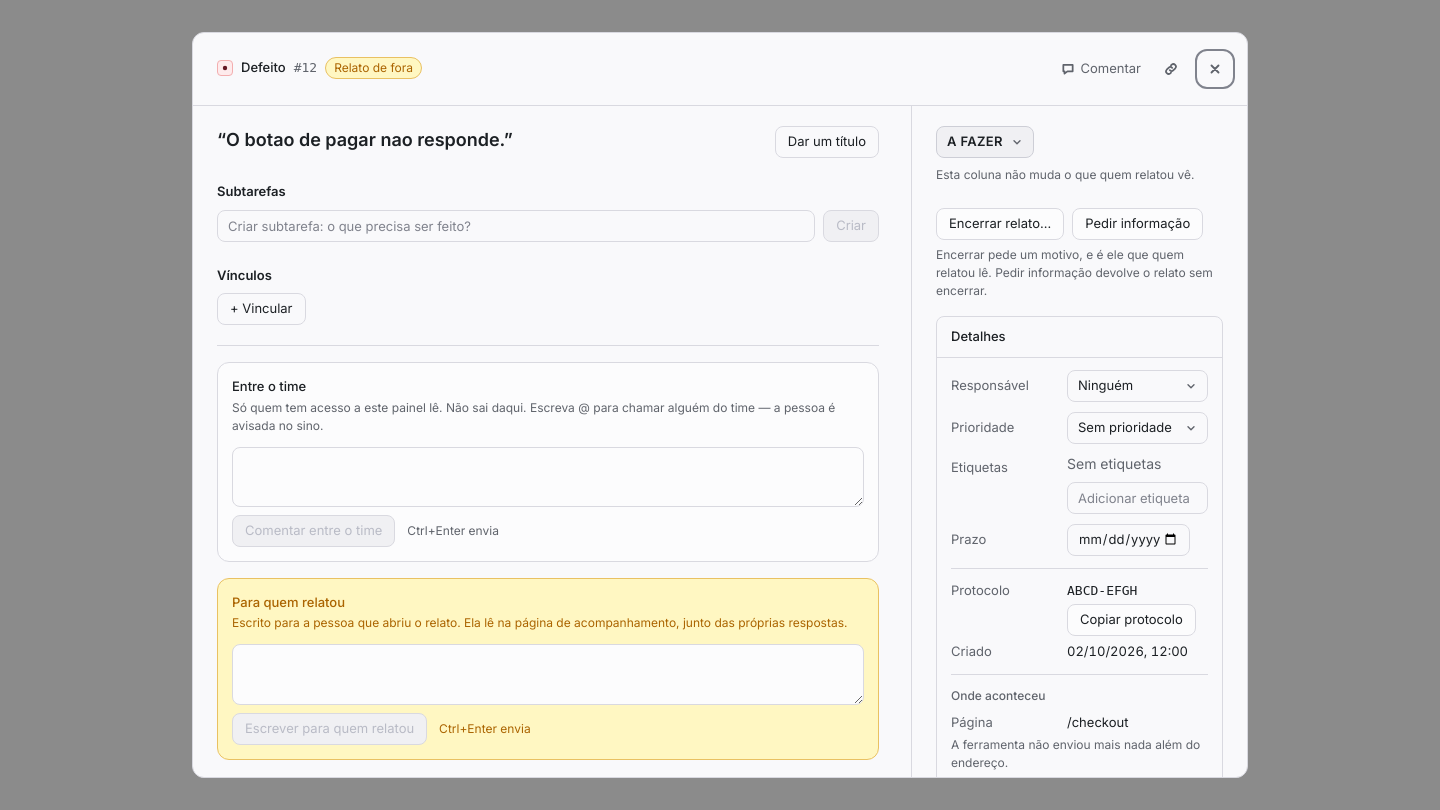
Test: as saidas do relato aberto › pedir informacao na primeira coluna: a pergunta aparece na hora, na caixa de quem relatou e em "Pergunta"
The image size is (1440, 810).
Expected: the button "Encerrar relato…" is shown, [936,208,1064,240]
Expected: the text "Encerrar pede um motivo, e é ele que quem relatou lê. Pedir informação devolve o relato sem encerrar." is shown, [936,247,1213,298]
Click the button "Pedir informação".
click(1138, 224)  # box [1072,208,1203,240]
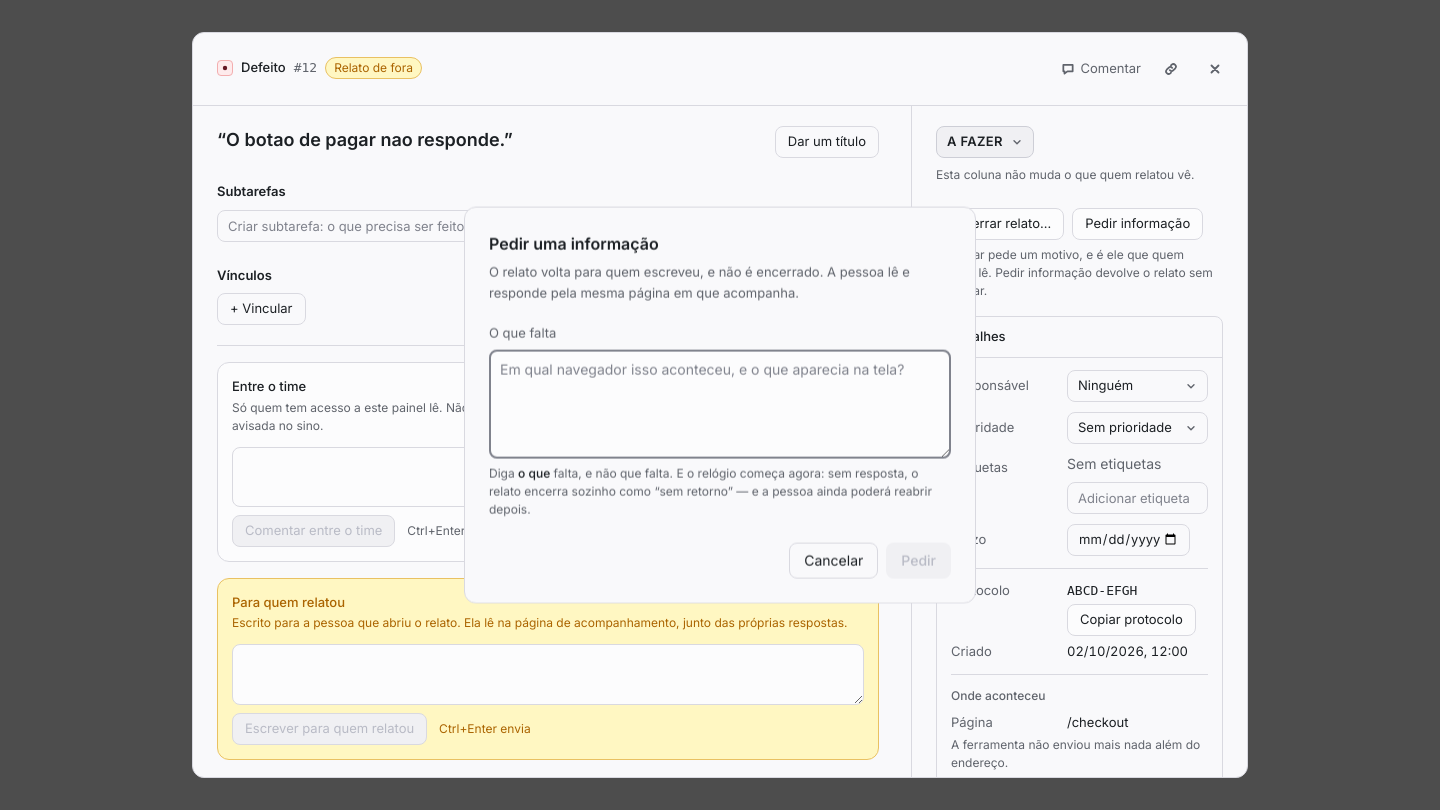
Type "Em qual navegador isso aconteceu?" into the text box labelled "O que falta".
click(720, 404); type("Em qual navegador isso aconteceu?")  # box [489,349,951,458]
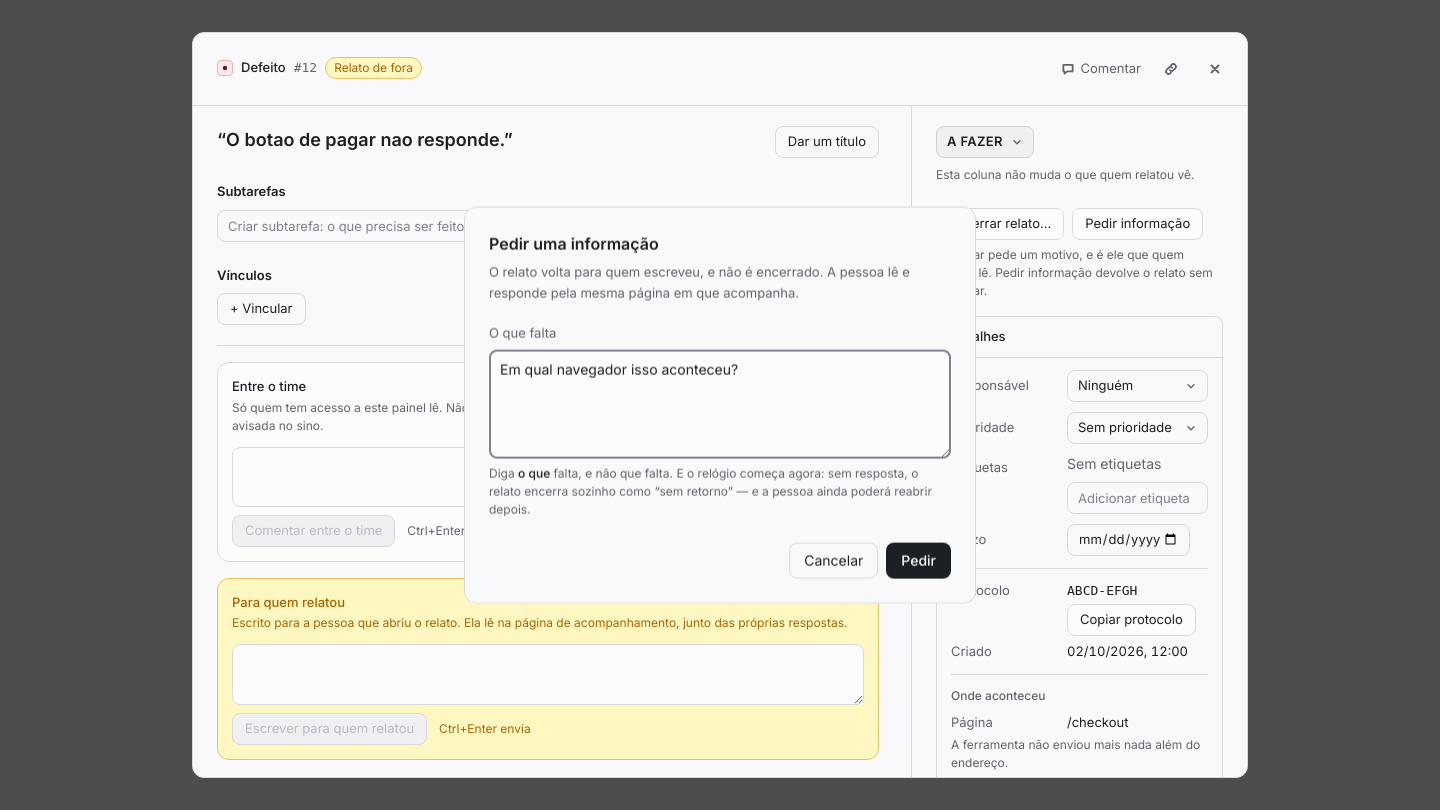
Click the button "Pedir".
click(919, 560)  # box [886,542,951,578]
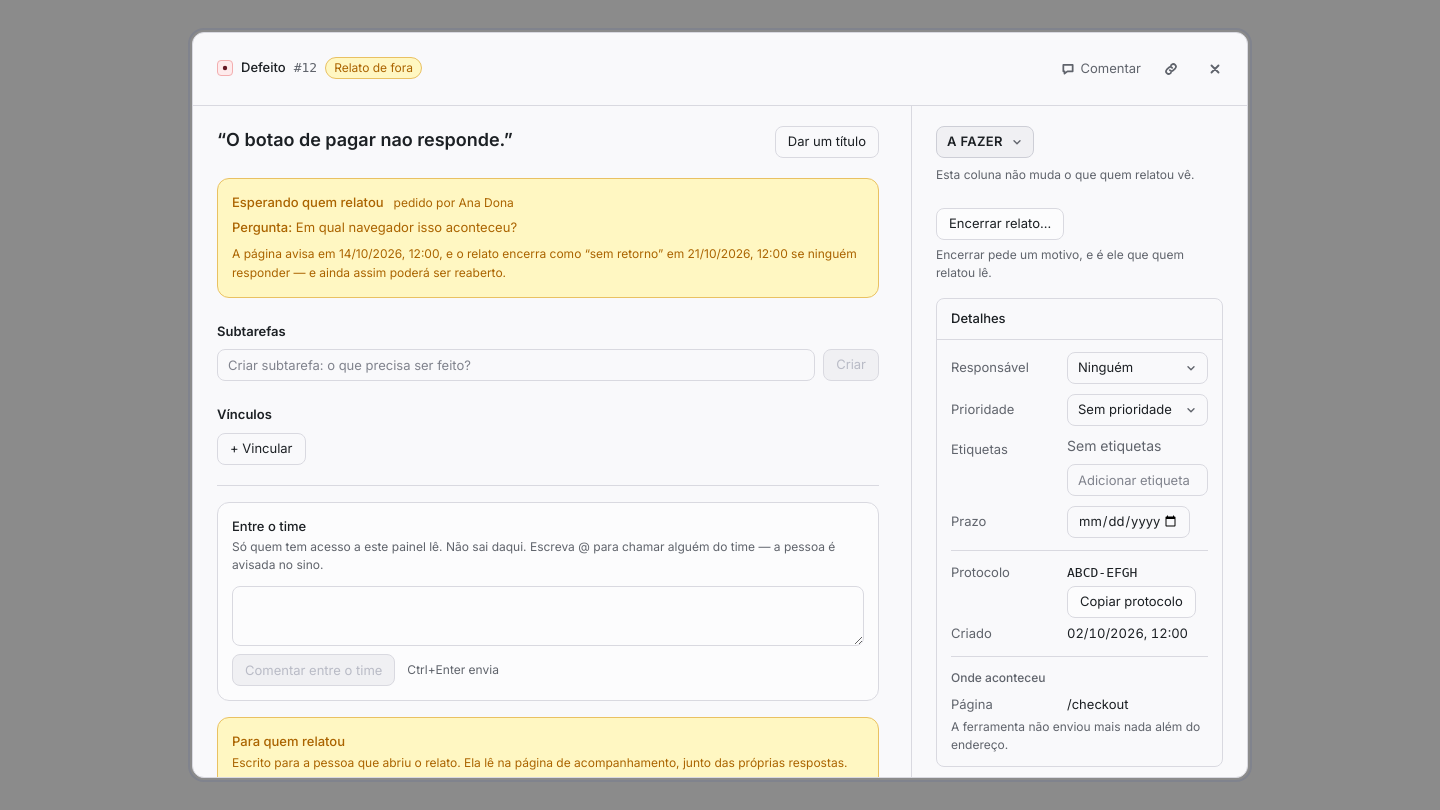
Expected: the text "Pergunta:" is shown, [232,218,292,234]
Expected: the text "Esperando quem relatou" shows "Pergunta: Em qual navegador isso aconteceu?", [217,178,879,298]
Expected: the text "Em qual navegador isso aconteceu?" is shown 2 times
